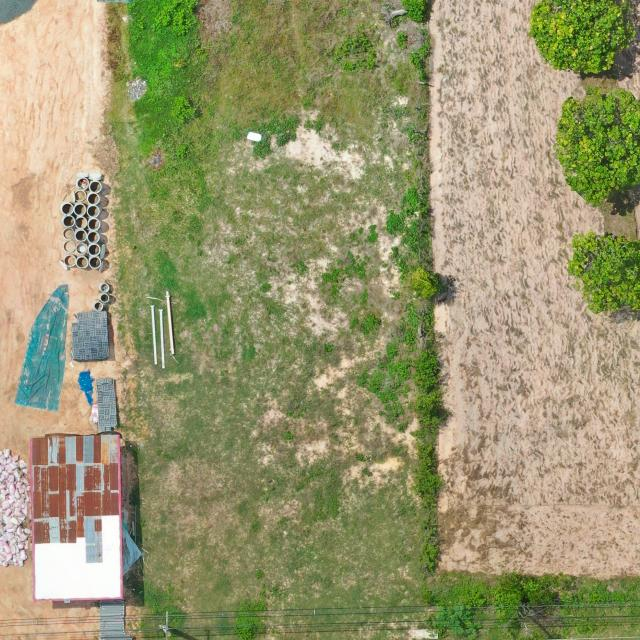Tree: (554, 86, 640, 209), (528, 0, 636, 77), (567, 230, 640, 316), (409, 268, 442, 302)
